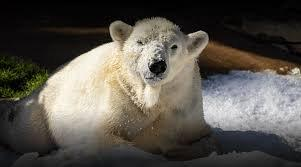bear: (2, 18, 211, 158)
